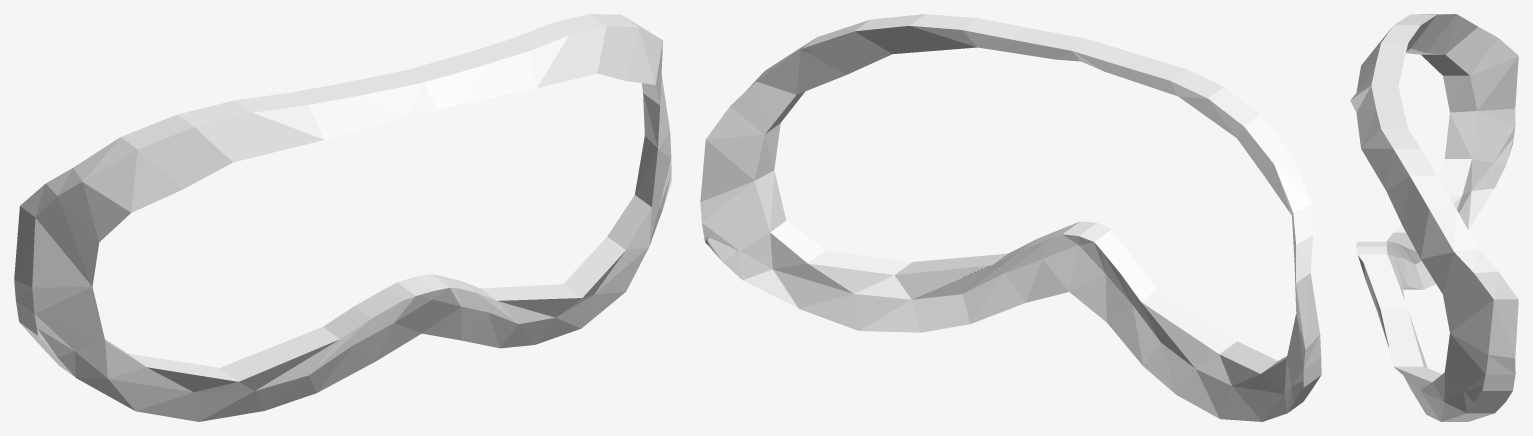
Rendered from Skigoggles.fbx.
3 views of the same model, side by side, from view 1: azimuth 30°, elevation 25°; view 2: azimuth 150°, elevation 25°; view 3: azimuth 270°, elevation 25° (orthographic). The views are drawn at different scales.
Parts seen in each view (by area): view 1: Cube.001; view 2: Cube.001; view 3: Cube.001.
Boxes of the visible parts, x1,y1,x2,y2 form: Cube.001: (14, 14, 671, 421); Cube.001: (700, 14, 1321, 421); Cube.001: (1350, 14, 1518, 421).
Size of the model in its own units: 470 by 223 by 134.
1 material, 1 textured.
